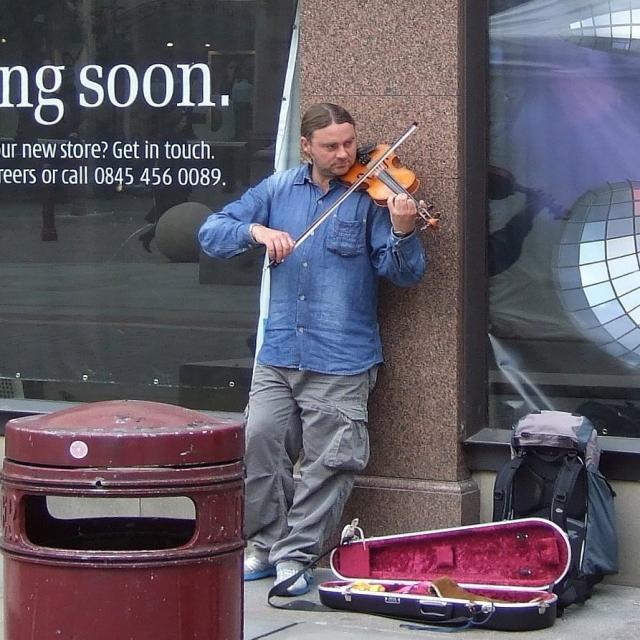violin: (340, 143, 442, 232)
